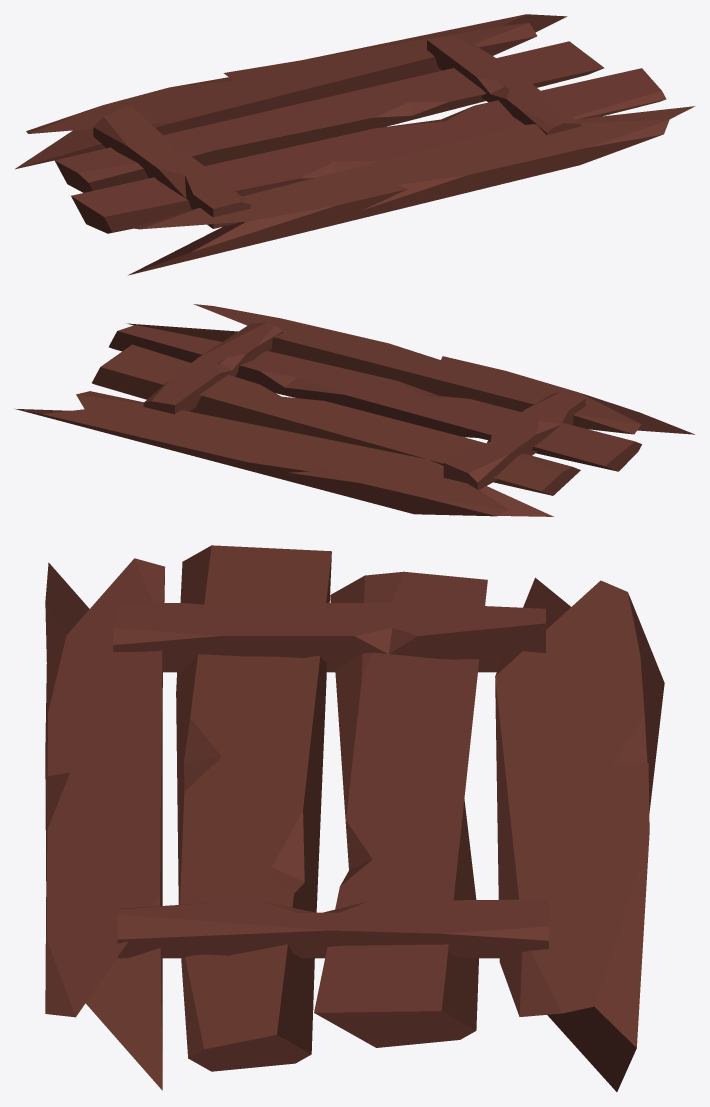
File: raft.blend_pre_save_colored (2).fbx
3 renders of one model, top to bottom at view 1: azimuth 30°, elevation 25°; view 2: azimuth 150°, elevation 25°; view 3: azimuth 270°, elevation 25°, orthographic. The views are drawn at different scales.
Parts seen in each view (by area): view 1: Cube.004; view 2: Cube.004; view 3: Cube.004.
Part boxes in pixels (box(x1,y1,x2,y2)): Cube.004: box(15, 14, 695, 275); Cube.004: box(14, 304, 694, 516); Cube.004: box(45, 545, 664, 1091).
Size of the model in its own units: 5.35 by 0.6391 by 10.82.
Materials: 1 (1 with a texture image).
